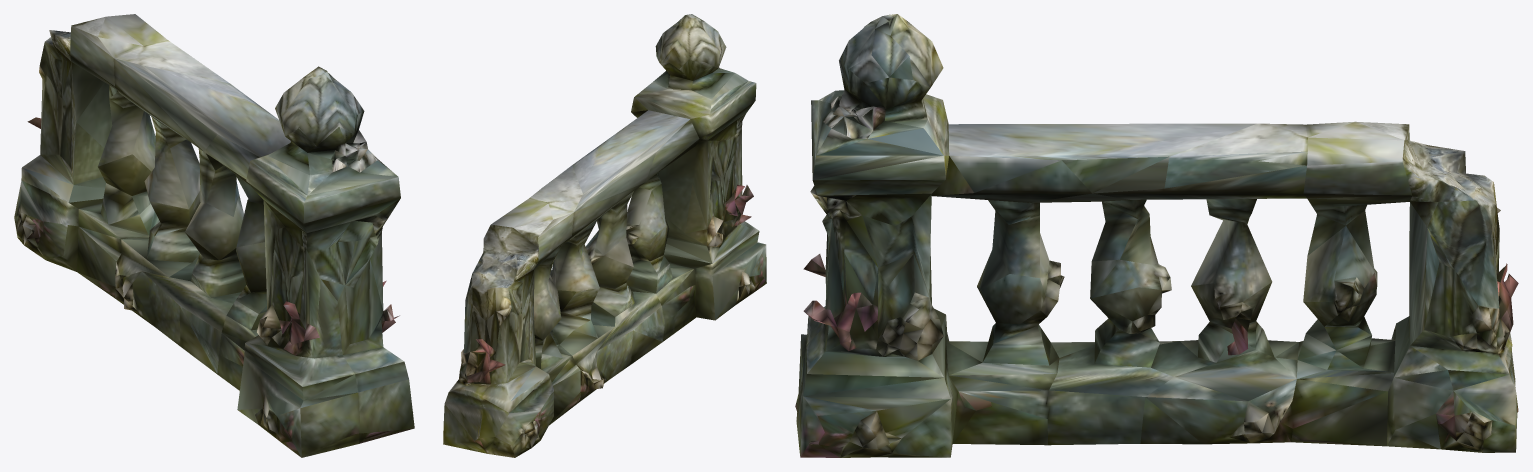
Rendered from railing.glb.
3 renders of one model, left to right at view 1: azimuth 30°, elevation 25°; view 2: azimuth 150°, elevation 25°; view 3: azimuth 270°, elevation 25°, orthographic. The views are drawn at different scales.
Parts seen in each view (by area): view 1: tripo_node_1f2cc195-8135-4710-a6cc-87a84150659c; view 2: tripo_node_1f2cc195-8135-4710-a6cc-87a84150659c; view 3: tripo_node_1f2cc195-8135-4710-a6cc-87a84150659c.
Part boxes in pixels (<box>): tripo_node_1f2cc195-8135-4710-a6cc-87a84150659c: <box>14,14,414,457</box>; tripo_node_1f2cc195-8135-4710-a6cc-87a84150659c: <box>443,14,766,457</box>; tripo_node_1f2cc195-8135-4710-a6cc-87a84150659c: <box>795,14,1518,457</box>.
Bounding box in the file's own units: 0.2376 × 0.6081 × 0.9595.
Materials: 1 (1 with a texture image).
